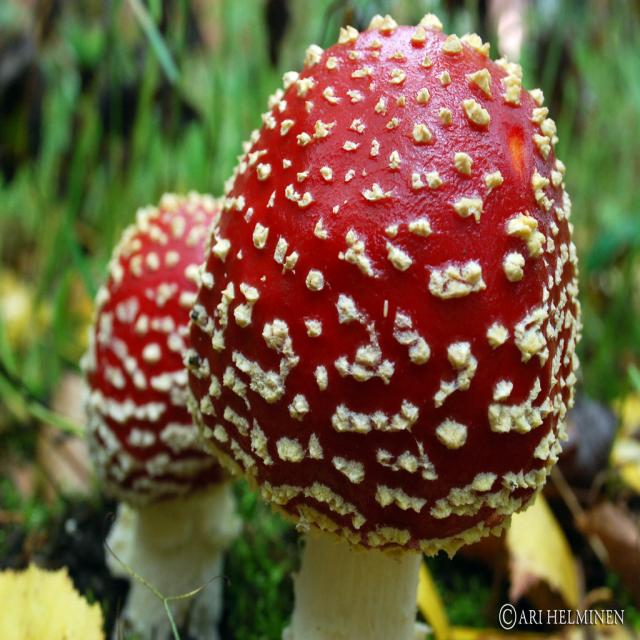mushroom: (162, 2, 601, 632), (83, 186, 241, 640)
